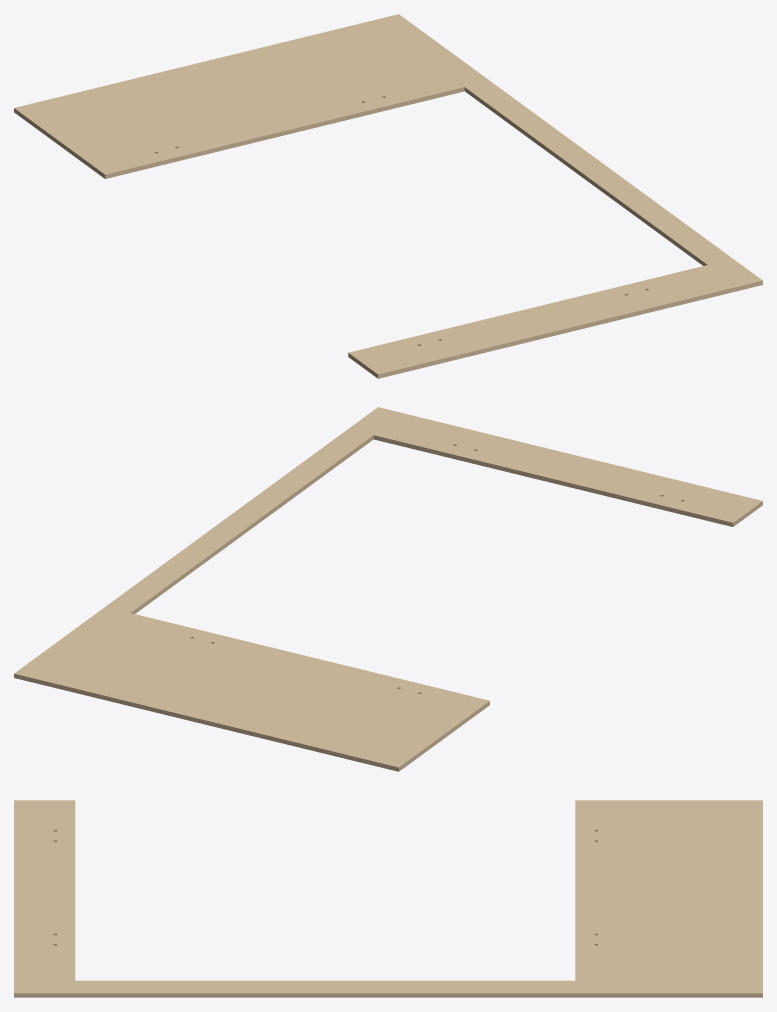
The model's file is NyxBoxV1_NyxRoyalLitterBot v106_FrontAccessPanel_1_ExteriorSheetFront_1_Body1.obj.
3 renders of one model, top to bottom at view 1: azimuth 30°, elevation 25°; view 2: azimuth 150°, elevation 25°; view 3: azimuth 270°, elevation 25°, orthographic. The views are drawn at different scales.
Parts seen in each view (by area): view 1: Body1; view 2: Body1; view 3: Body1.
Part boxes in pixels (x1=…): Body1: x1=14, y1=14, x2=762, y2=378; Body1: x1=14, y1=407, x2=762, y2=771; Body1: x1=14, y1=800, x2=762, y2=997.
Bounding box in the file's own units: 558 × 6 × 914.
